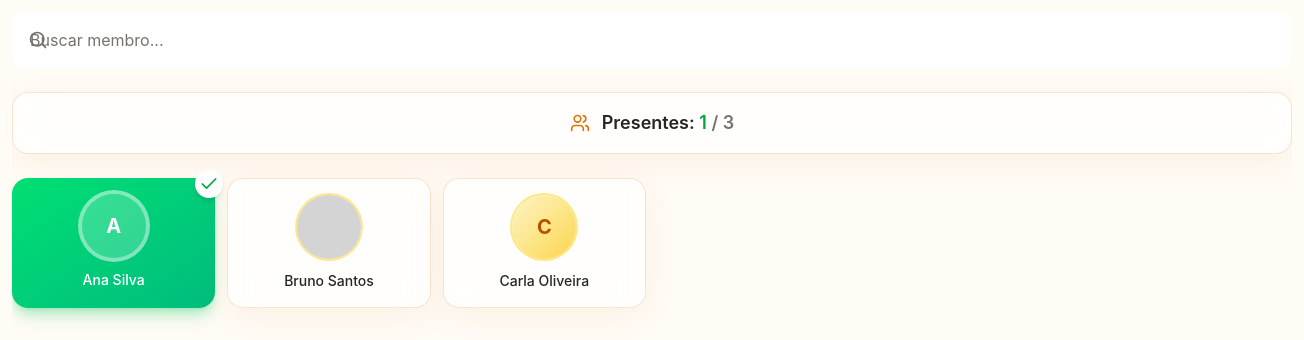
it: ChamadaGrid › Busca › deve mostrar mensagem quando nenhum membro encontrado
The width and height of the screenshot is (1304, 340).
Expected: the text "Ana Silva" is shown, [83,270,145,290]
Step 1. Type "xyz123" into the field with placeholder "Buscar membro..." → (652,40), box [12,12,1292,68]
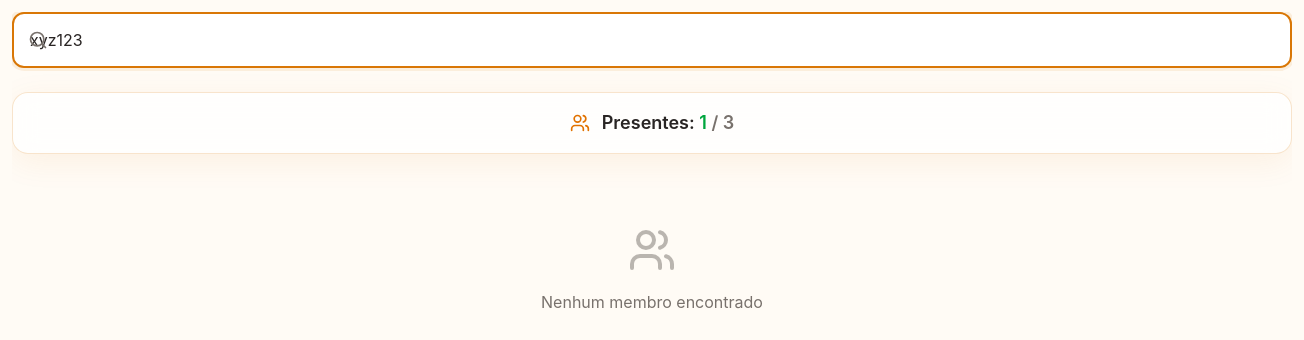
Expected: the text "Nenhum membro encontrado" is shown, [541,292,763,312]
